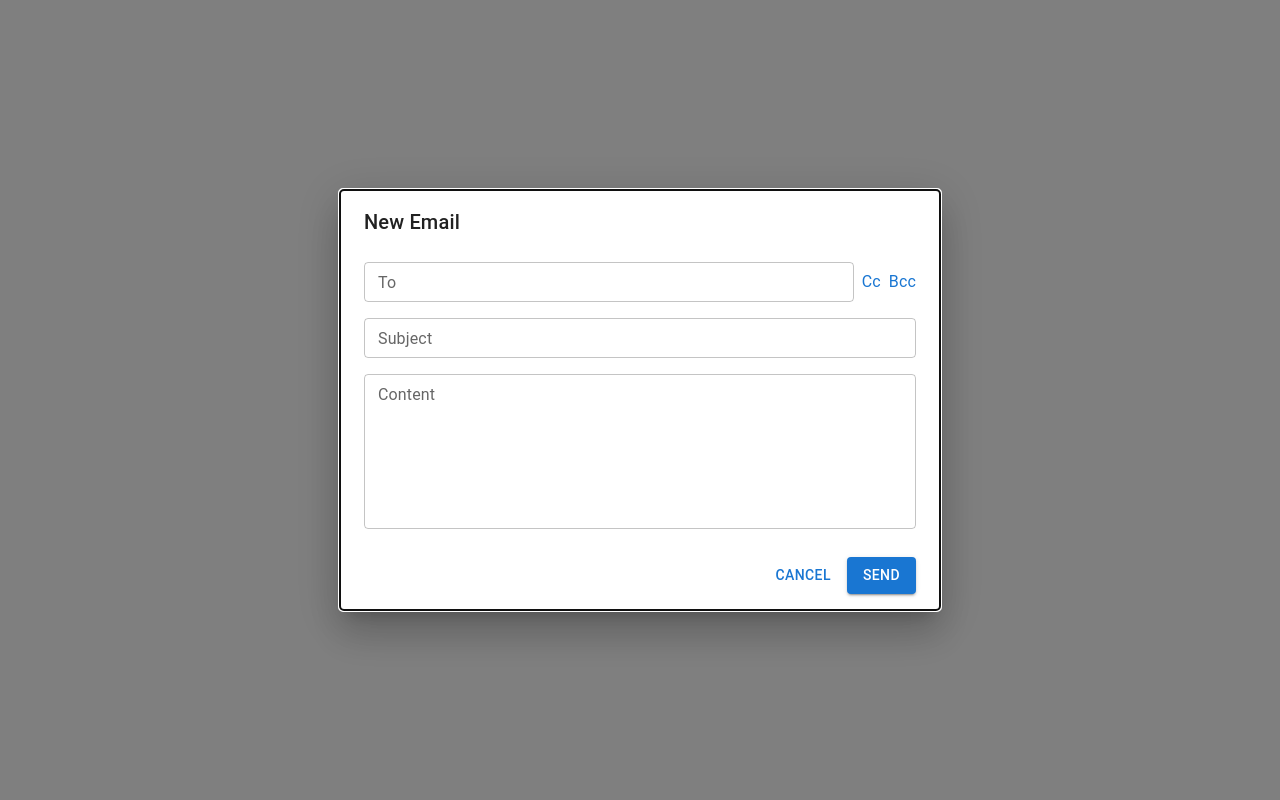
Test: ComposeEmail Component › shows CC/BCC fields when clicked
What coordinates should you click on to do the following:
click the text "Cc"
I would click on:
 (871, 282)
Its box is [862,270,881,294].
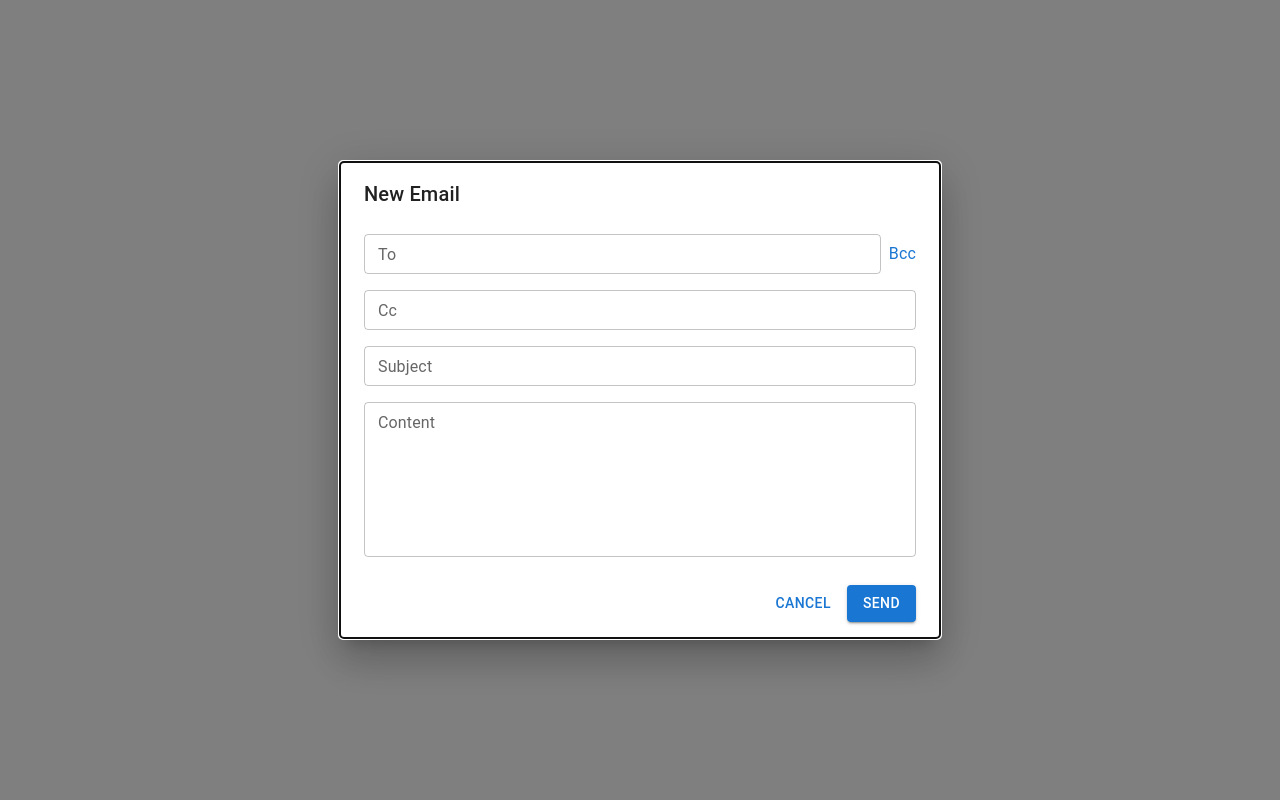
What coordinates should you click on to do the following:
click the text "Bcc"
I would click on:
 (902, 254)
Its box is [889,242,916,266].
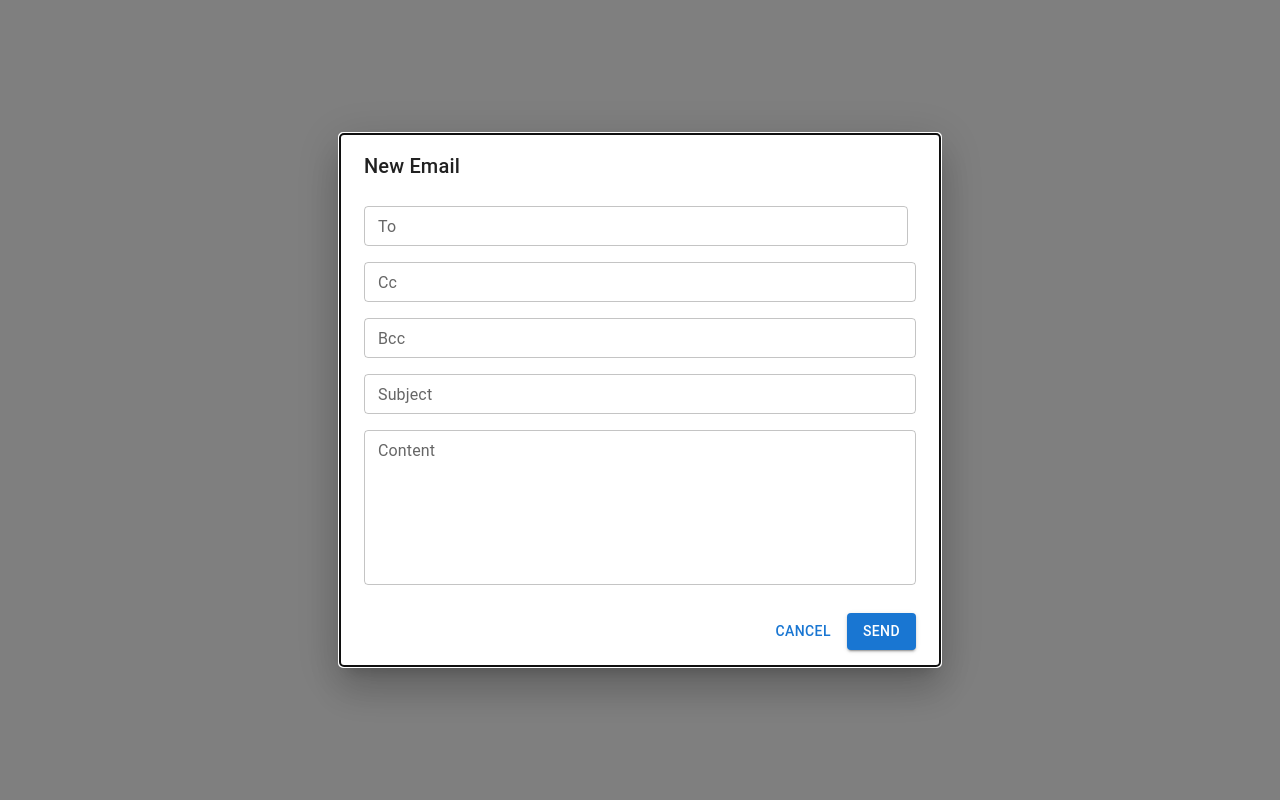
Expected: the field labelled "Cc" is shown, [364,262,916,302]
Expected: the field labelled "Bcc" is shown, [364,318,916,358]
Expected: the text with test id "compose-email-bcc" is gone
